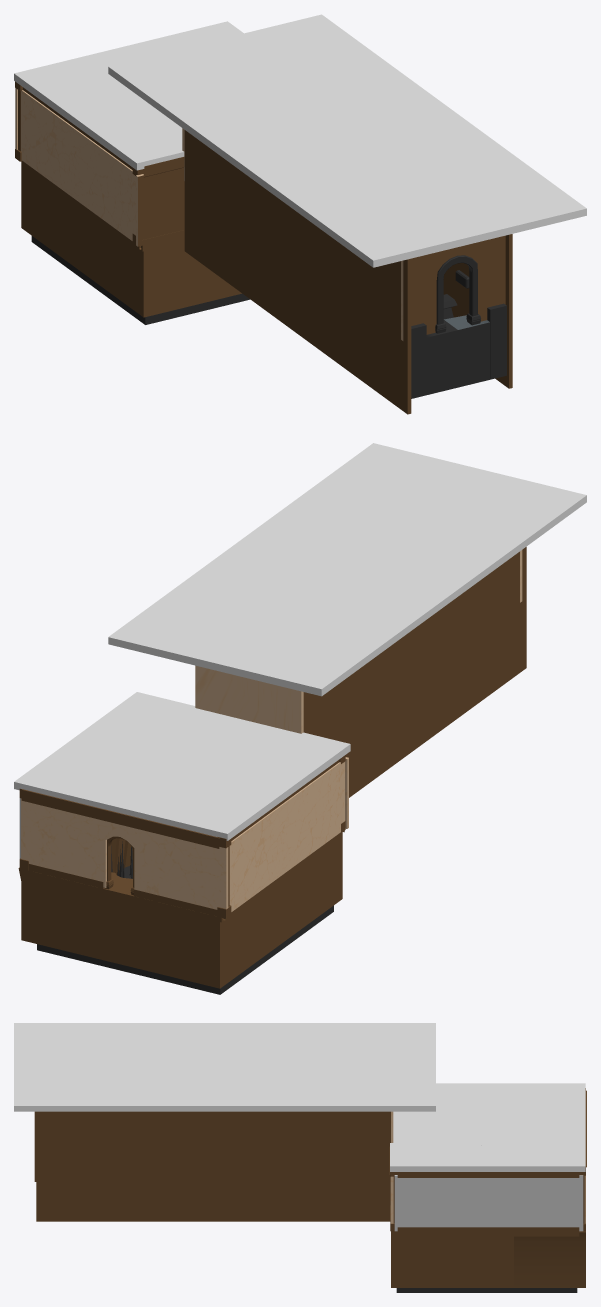
File: new_2d_puzzle.fbx
The picture shows the model from 3 angles, top to bottom: view 1: azimuth 30°, elevation 25°; view 2: azimuth 150°, elevation 25°; view 3: azimuth 270°, elevation 25°; orthographic projection. The views are drawn at different scales.
Parts seen in each view (by area): view 1: Cube.002, spikes floor.003, spikes floor.073, Cube; view 2: Cube.002, spikes floor.073, spikes floor.003, Cube; view 3: spikes floor.003, Cube.002, Cube, spikes floor.073, Cube.001.
Boxes of the visible parts, left/top/right/bottom form: Cube.002: left=108, top=14, right=586, bottom=267; spikes floor.003: left=182, top=128, right=512, bottom=414; spikes floor.073: left=15, top=81, right=250, bottom=324; Cube: left=14, top=21, right=243, bottom=170; Cube.002: left=108, top=443, right=586, bottom=696; spikes floor.073: left=18, top=755, right=348, bottom=994; spikes floor.003: left=195, top=547, right=526, bottom=797; Cube: left=14, top=692, right=350, bottom=840; spikes floor.003: left=34, top=1111, right=393, bottom=1221; Cube.002: left=14, top=1023, right=435, bottom=1111; Cube: left=390, top=1083, right=585, bottom=1171; spikes floor.073: left=389, top=1088, right=586, bottom=1292; Cube.001: left=394, top=1175, right=583, bottom=1231.
Bounding box in the file's own units: 456 × 497 × 1332.
